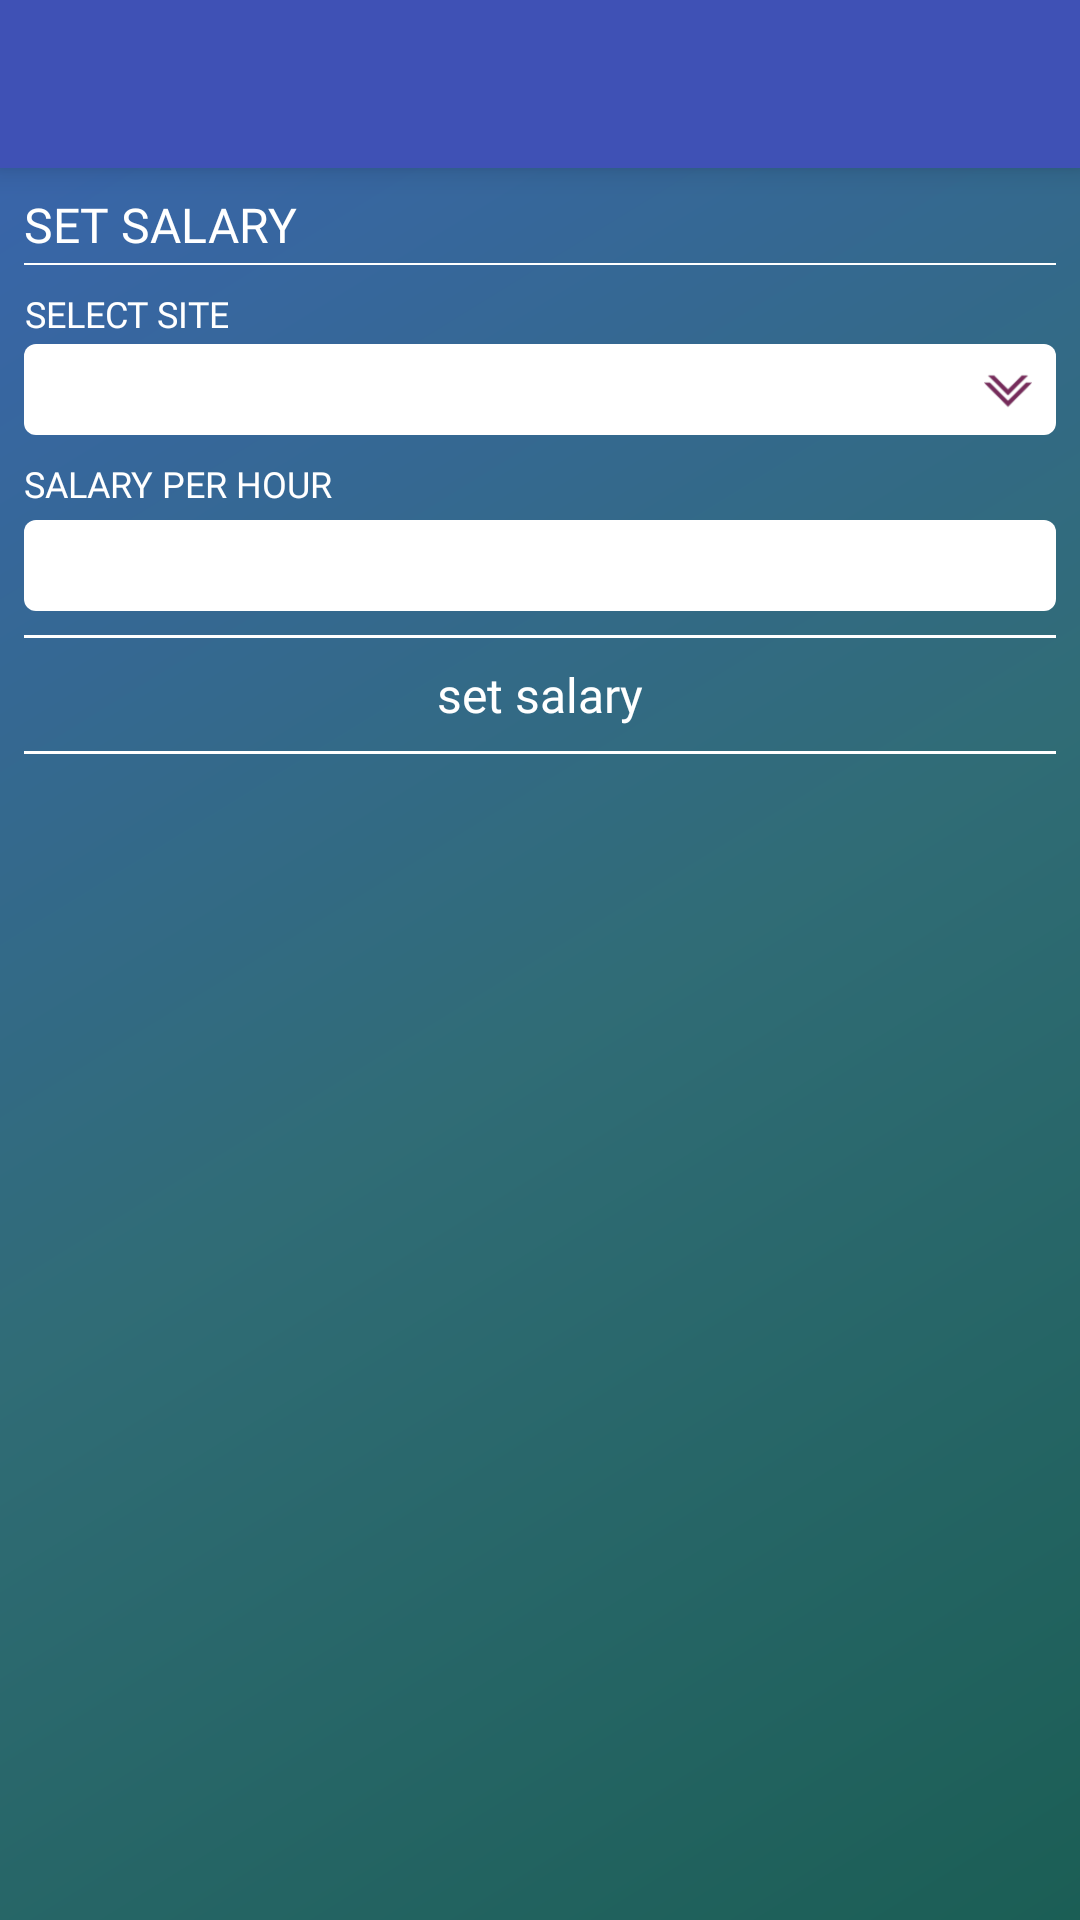

Screen size 1080 × 1920. Icon name, then its box in pixels as (x1, y1, x2, y2):
down arrow: (984, 375, 1032, 407)
